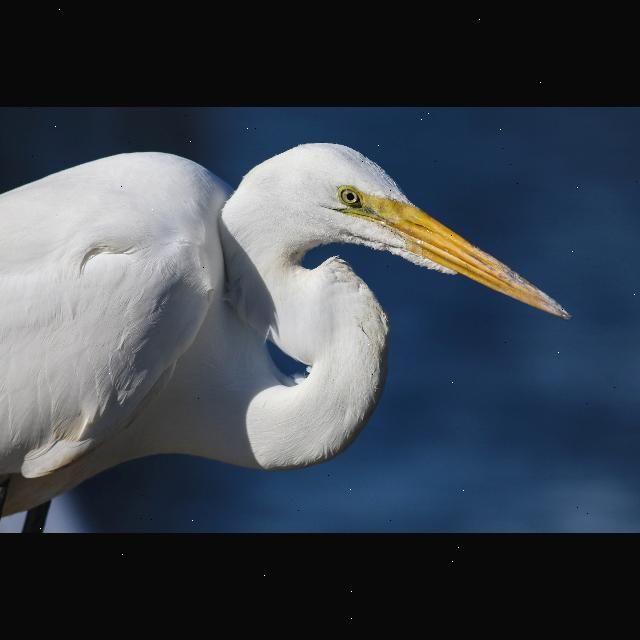egret: (0, 136, 576, 534)
